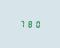eight: (26, 19, 32, 28)
seven: (18, 19, 24, 27)
zero: (33, 20, 39, 28)
